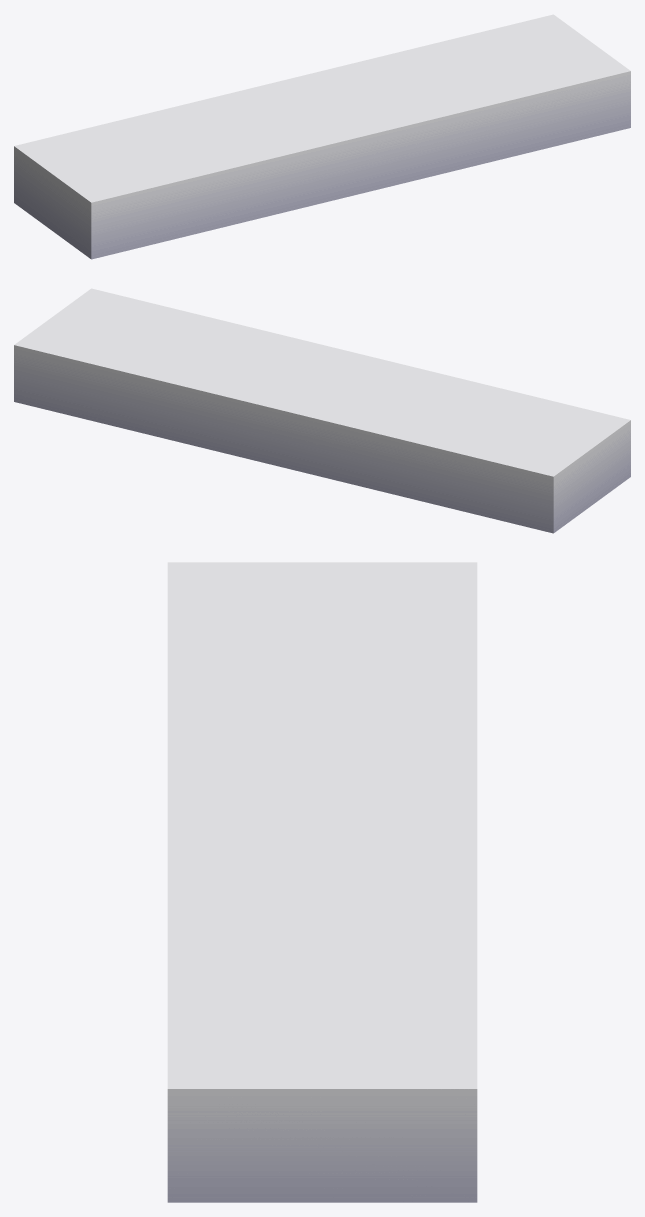
The model's file is brick-kit--none-lq-plate-1x4.glb.
The picture shows the model from 3 angles, top to bottom: view 1: azimuth 30°, elevation 25°; view 2: azimuth 150°, elevation 25°; view 3: azimuth 270°, elevation 25°; orthographic projection. The views are drawn at different scales.
Parts seen in each view (by area): view 1: none-lq-plate-1x4; view 2: none-lq-plate-1x4; view 3: none-lq-plate-1x4.
Part boxes in pixels (box(x1,y1,x2,y2)): none-lq-plate-1x4: box(14, 14, 630, 259); none-lq-plate-1x4: box(14, 288, 630, 533); none-lq-plate-1x4: box(167, 562, 477, 1202).
Bounding box in the file's own units: 0.318 × 0.032 × 0.079.
Materials: 1 (1 with a texture image).
